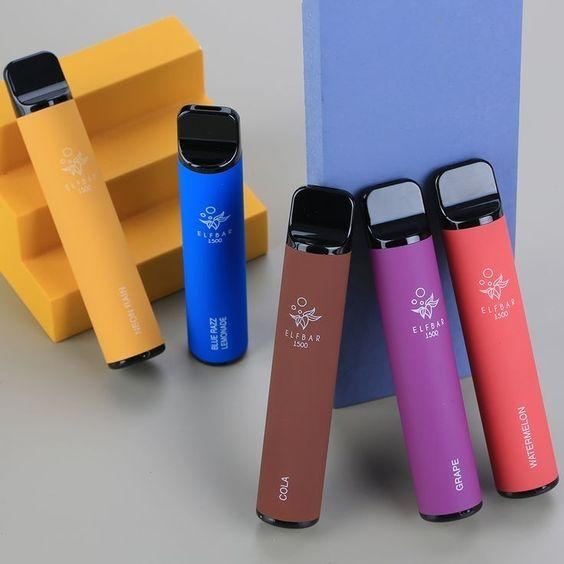Vape: (4, 51, 164, 368), (358, 179, 482, 520), (433, 159, 558, 497), (256, 185, 353, 527), (178, 104, 247, 364)
